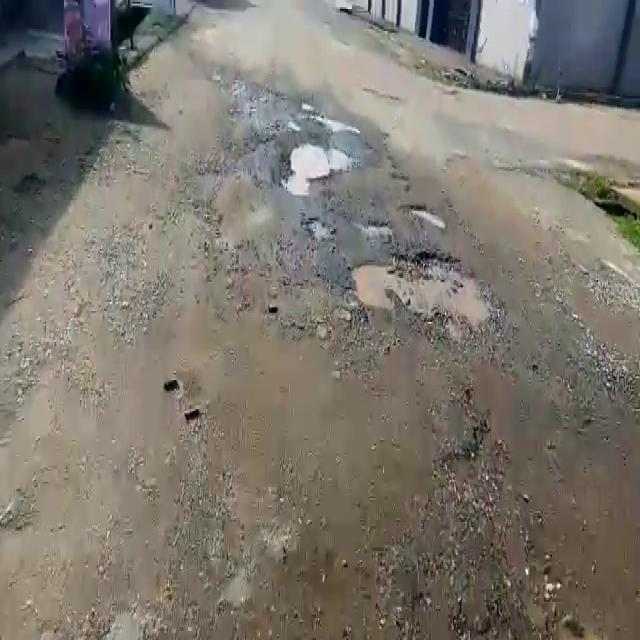pothole: (346, 249, 508, 340), (280, 144, 358, 195), (404, 203, 446, 233), (361, 219, 396, 237)
